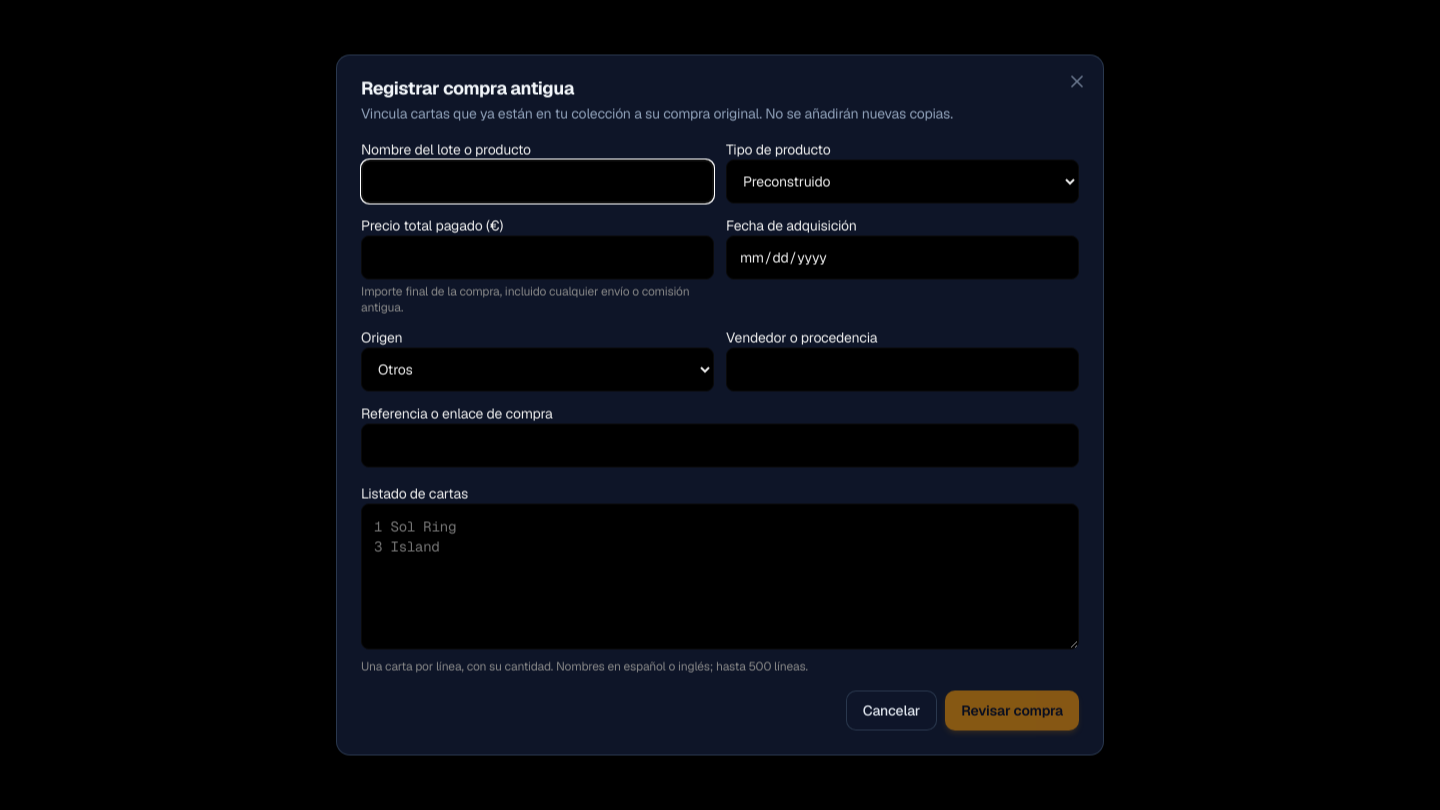
Test case: requires price and date and corrects an invalid name dynamically
Type "1 Sol Rign" into the text box labelled "Listado de cartas" at x=720, y=576, box [361,504,1079,650]
(page scrolled)
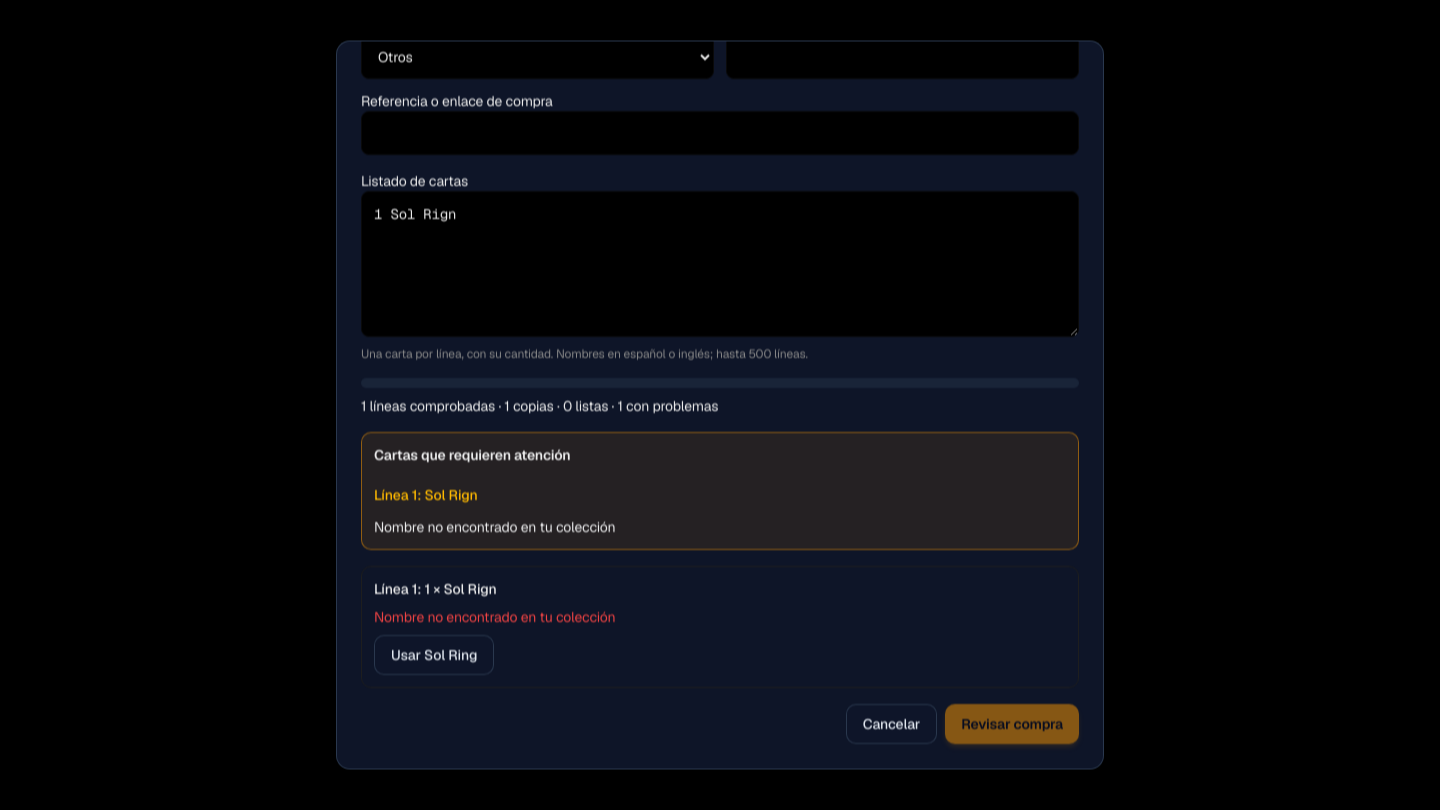
expect the text "Nombre no encontrado en tu colección" is shown: met, box [374,518,616,536]
Click the button "Usar Sol Ring" at x=434, y=656, box [374,636,494,676]
(page scrolled)
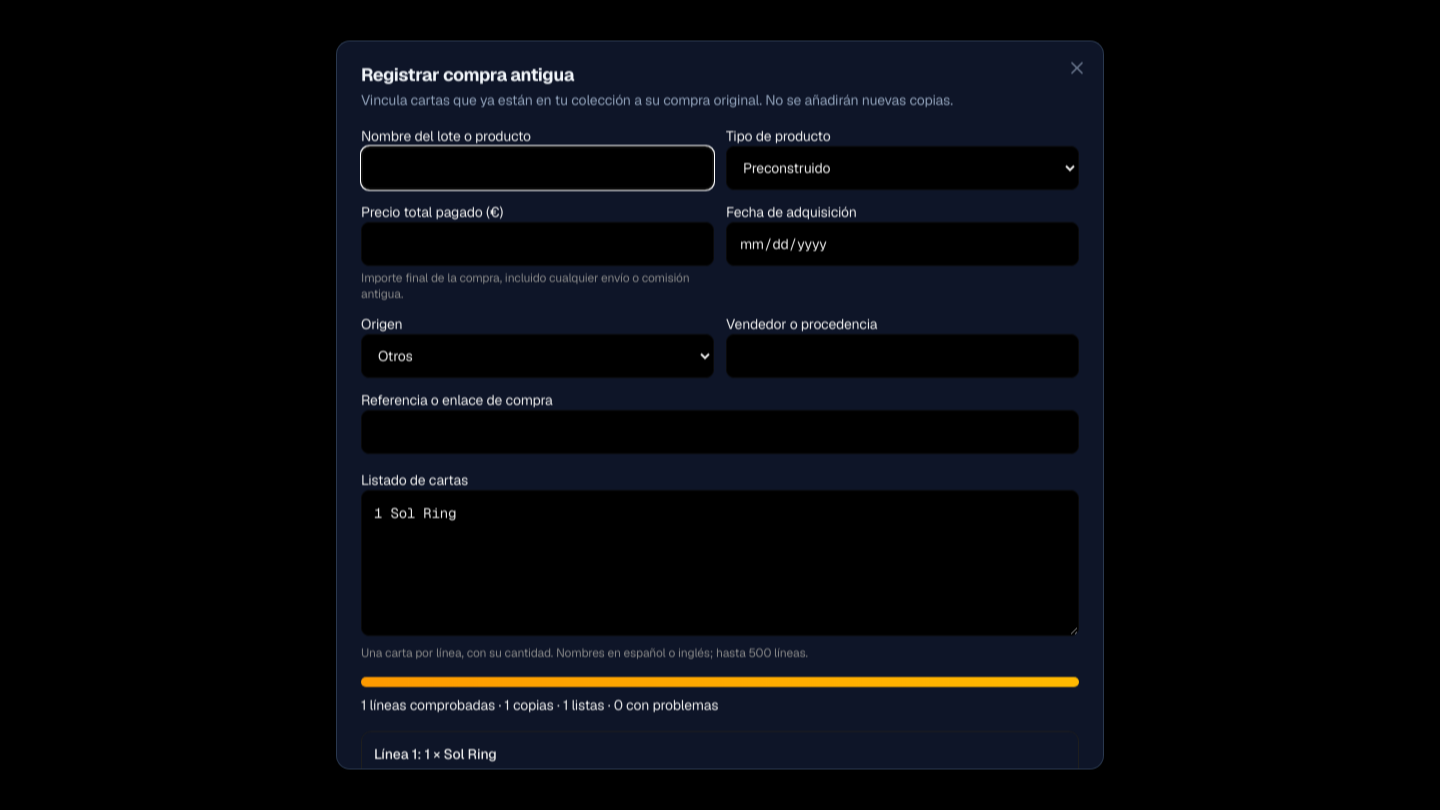
Type "Precon" into the field labelled "Nombre del lote o producto" at x=538, y=168, box [361,146,714,190]
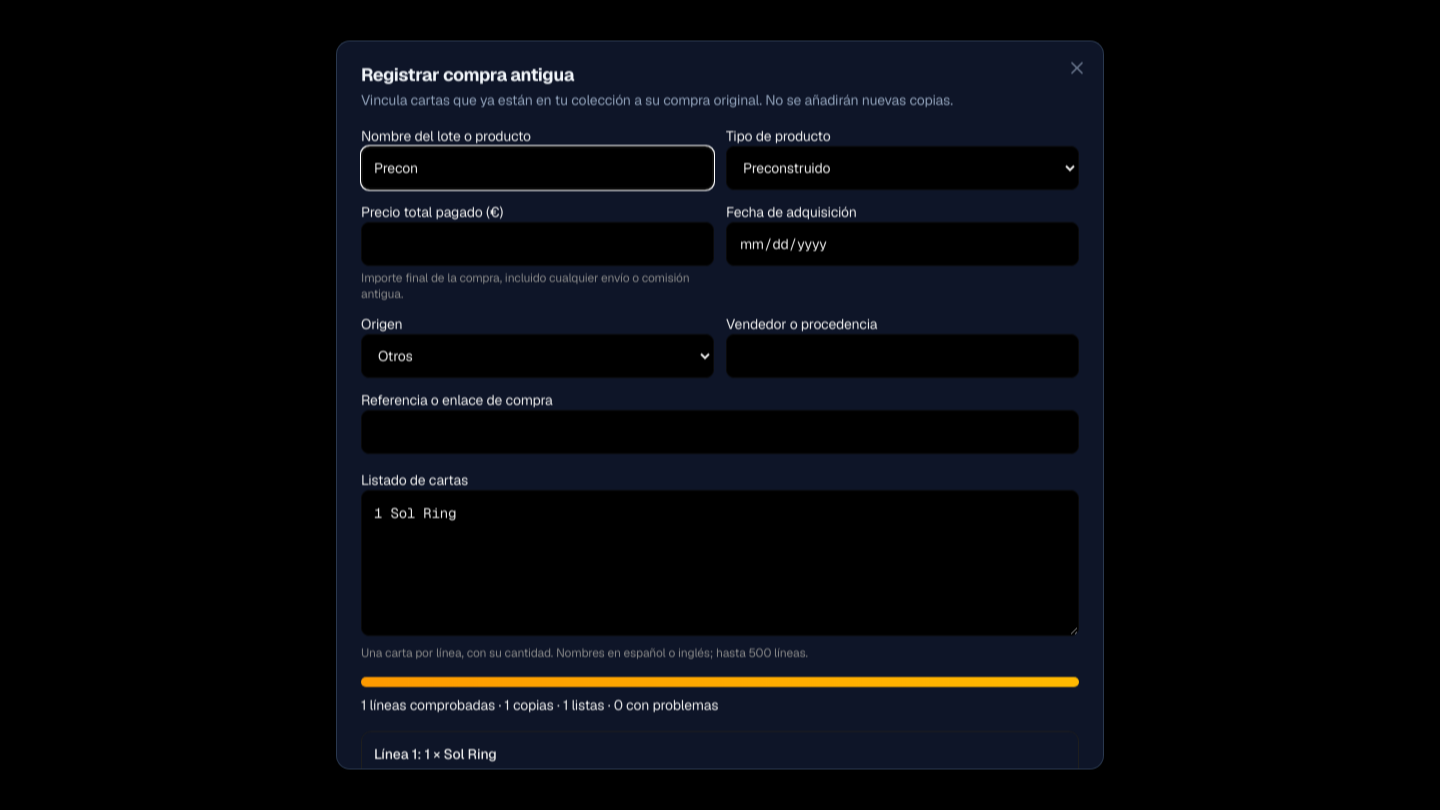
Type "40" into the number field labelled "Precio total pagado (€)" at x=538, y=244, box [361,222,714,266]
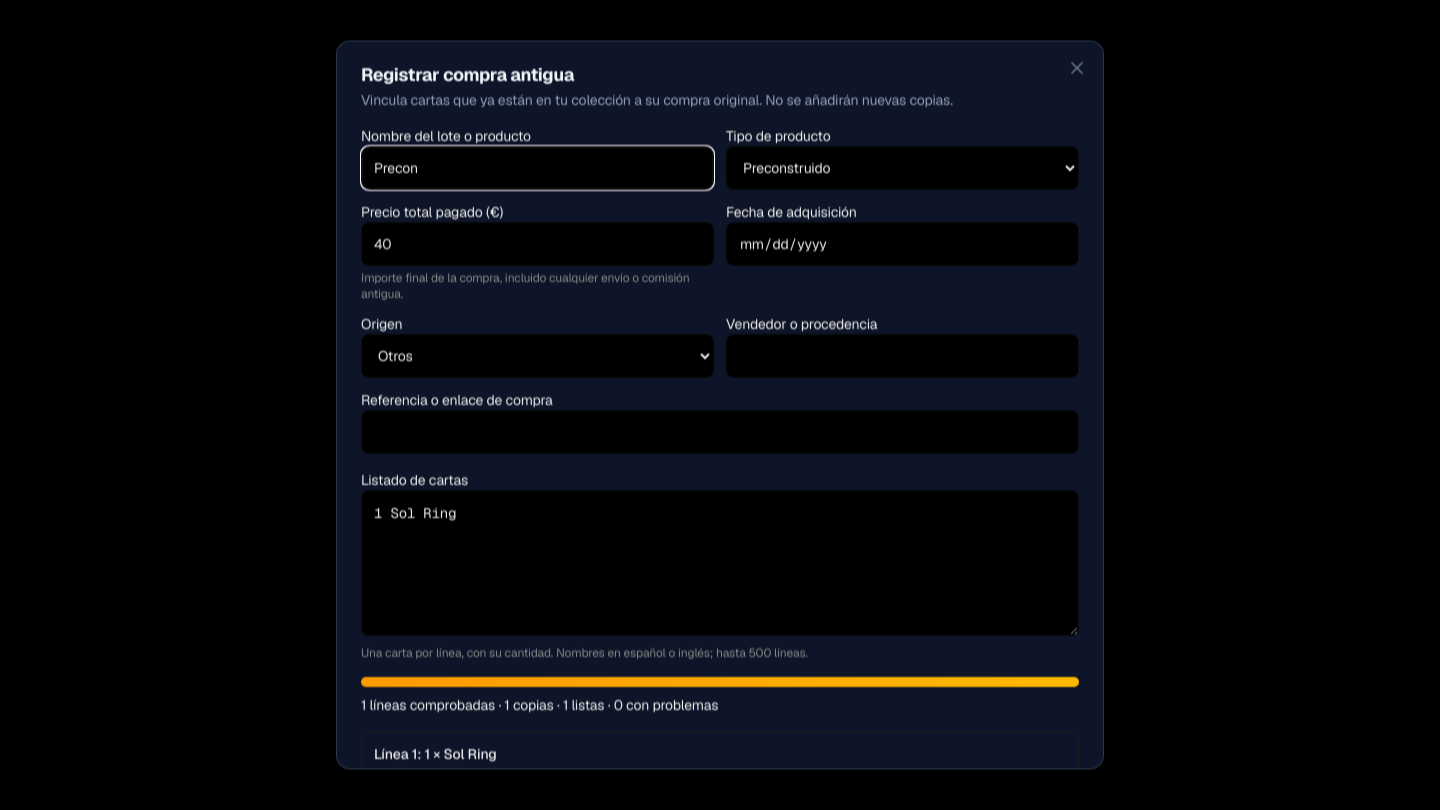
Type "2025-01-02" into the date field labelled "Fecha de adquisición" at x=902, y=244, box [726,222,1079,266]
(page scrolled)
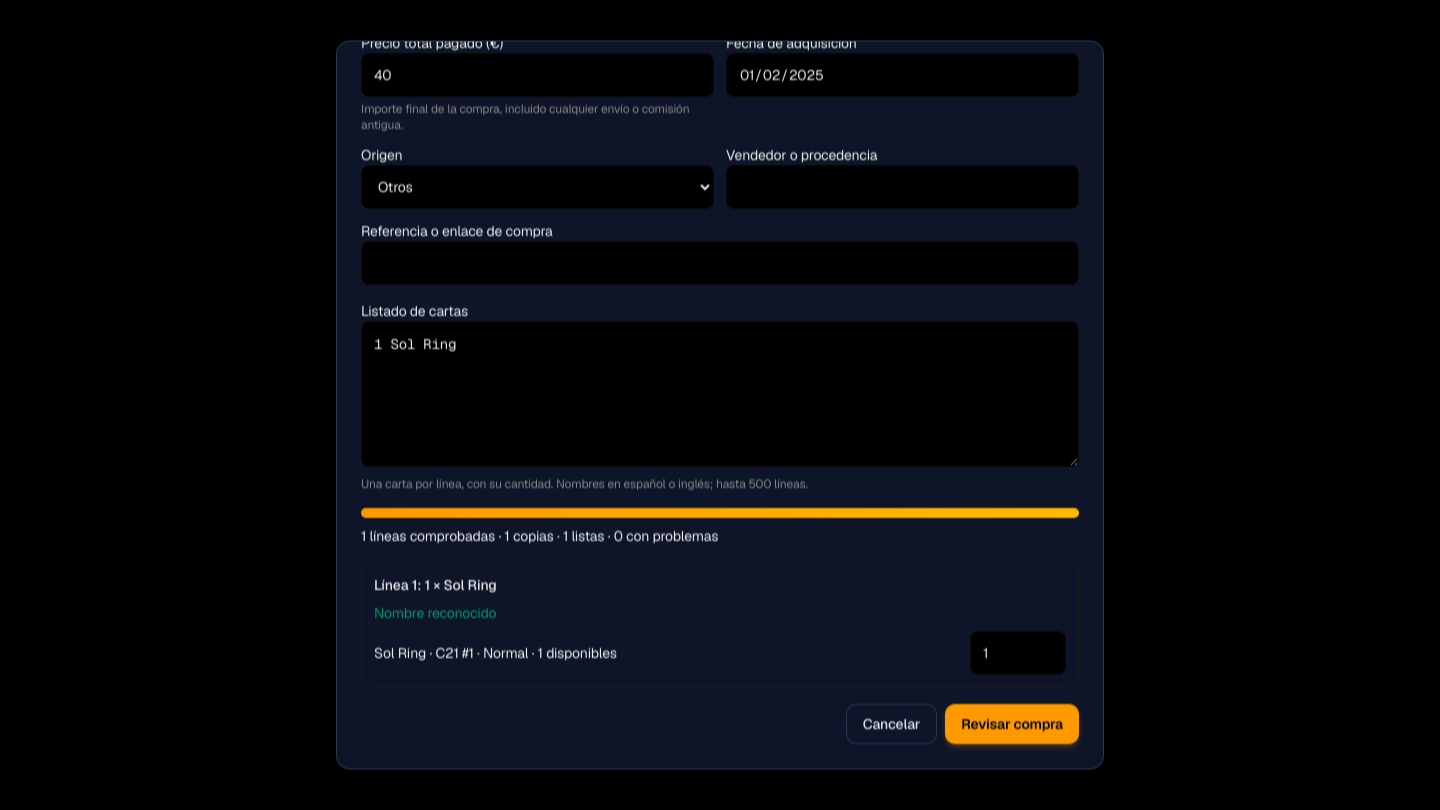
expect the button "Revisar compra" is enabled: met, box [945,704,1079,744]
